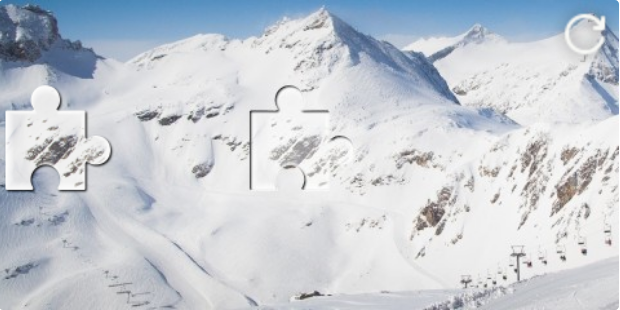target: (249, 84, 355, 191)
